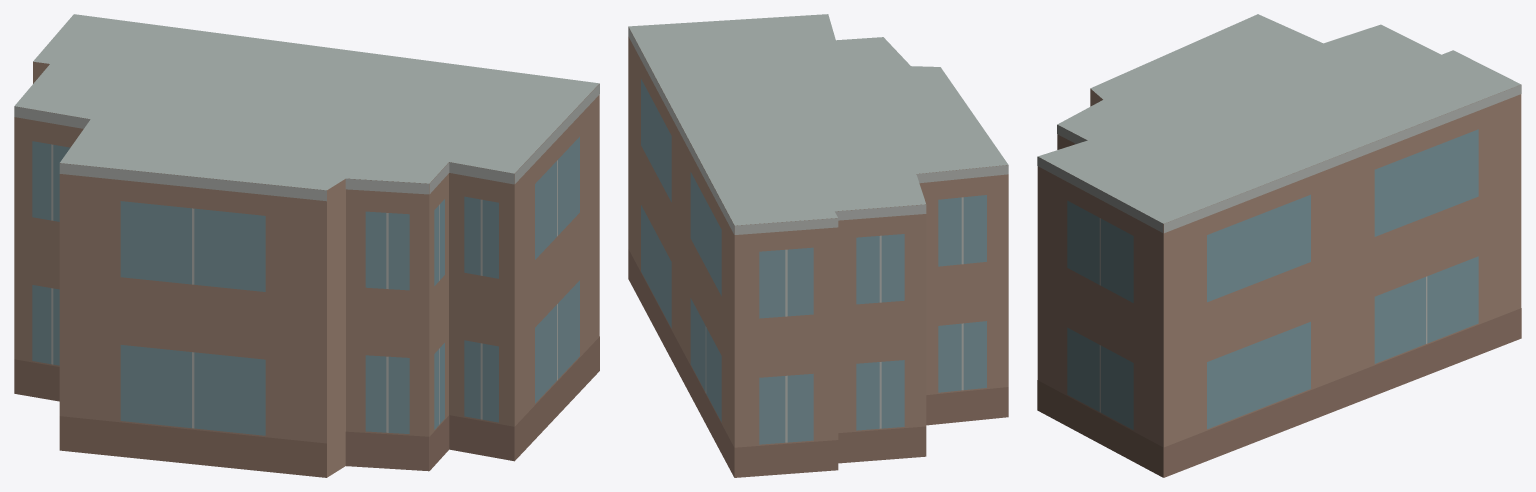
File: survey-upis-32690633.glb
3 renders of one model, left to right at view 1: azimuth 30°, elevation 25°; view 2: azimuth 150°, elevation 25°; view 3: azimuth 270°, elevation 25°, orthographic. The views are drawn at different scales.
Visible parts, largest first — view 1: survey-upis-32690633.tmp; view 2: survey-upis-32690633.tmp; view 3: survey-upis-32690633.tmp.
Boxes of the visible parts, box(x1,y1,x2,y2) form: survey-upis-32690633.tmp: box(14, 14, 599, 477); survey-upis-32690633.tmp: box(628, 14, 1008, 477); survey-upis-32690633.tmp: box(1037, 14, 1521, 477).
Bounding box in the file's own units: 11.44 × 6.45 × 11.14.
